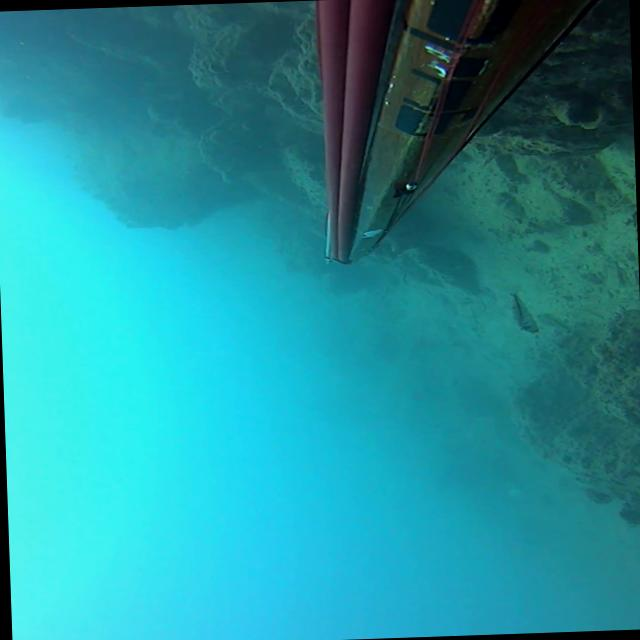Balon Baligi: (504, 288, 538, 334), (535, 312, 572, 332)
